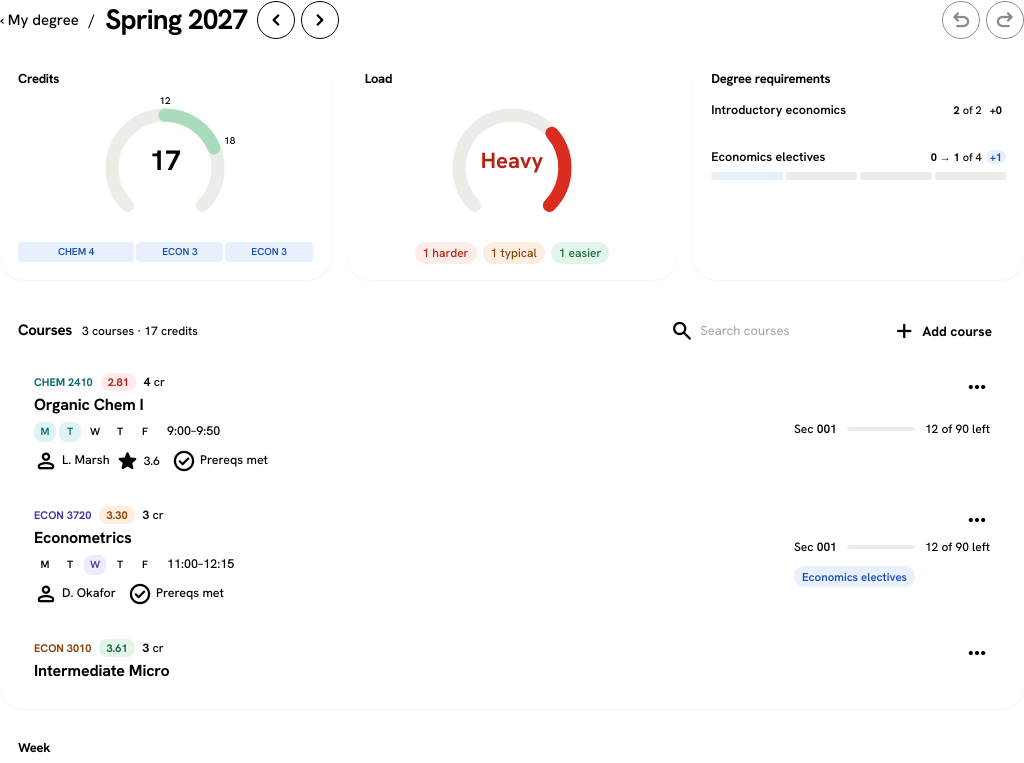
drops › a week drop where several sections fit adds the course and opens Swap section
In the search field labelled "Search courses": point(780, 331) [700,322,860,339], type "labor"
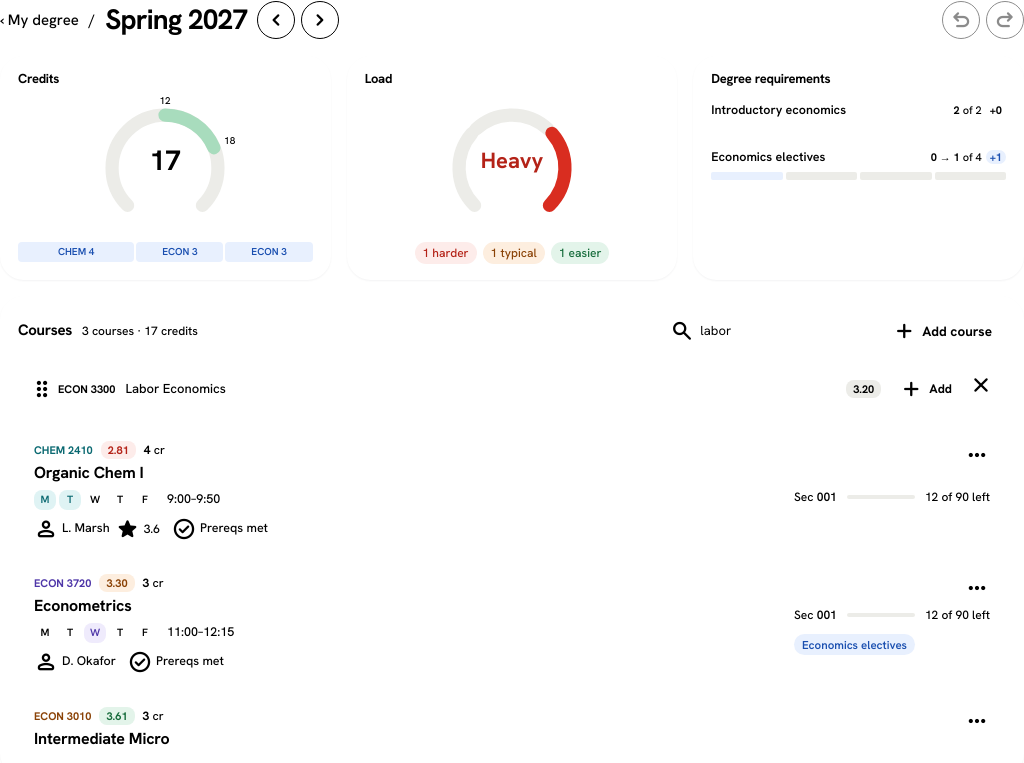
Press Space in the button named "Drag ECON 3300", box [30,377,48,401]
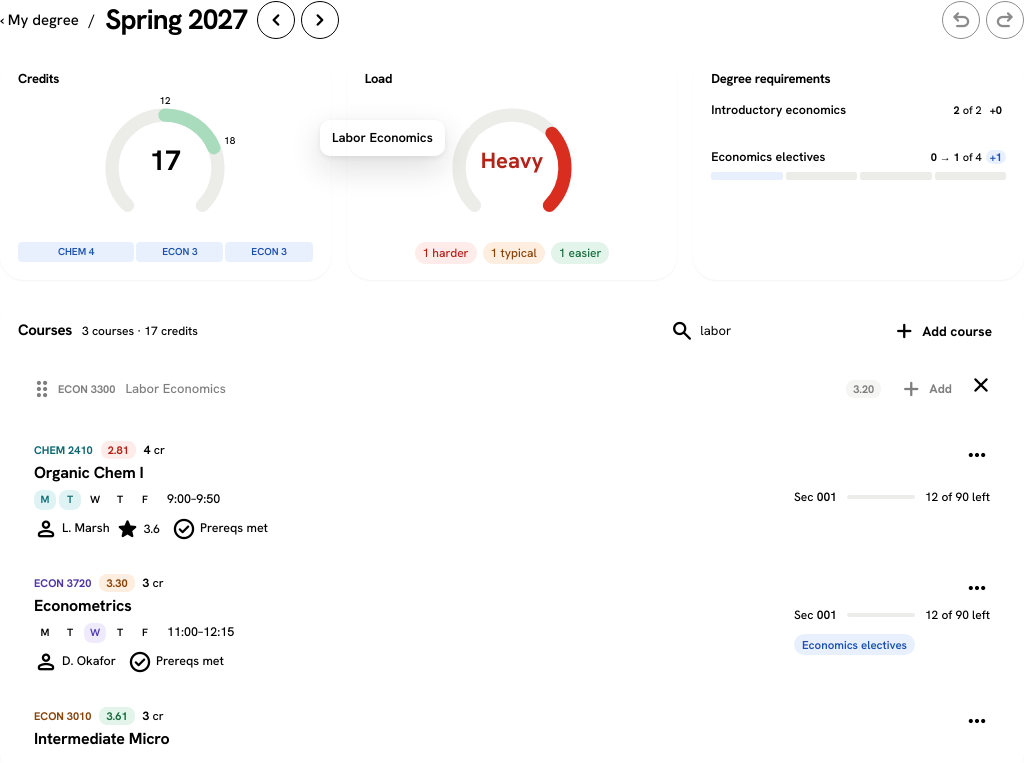
Press ArrowDown
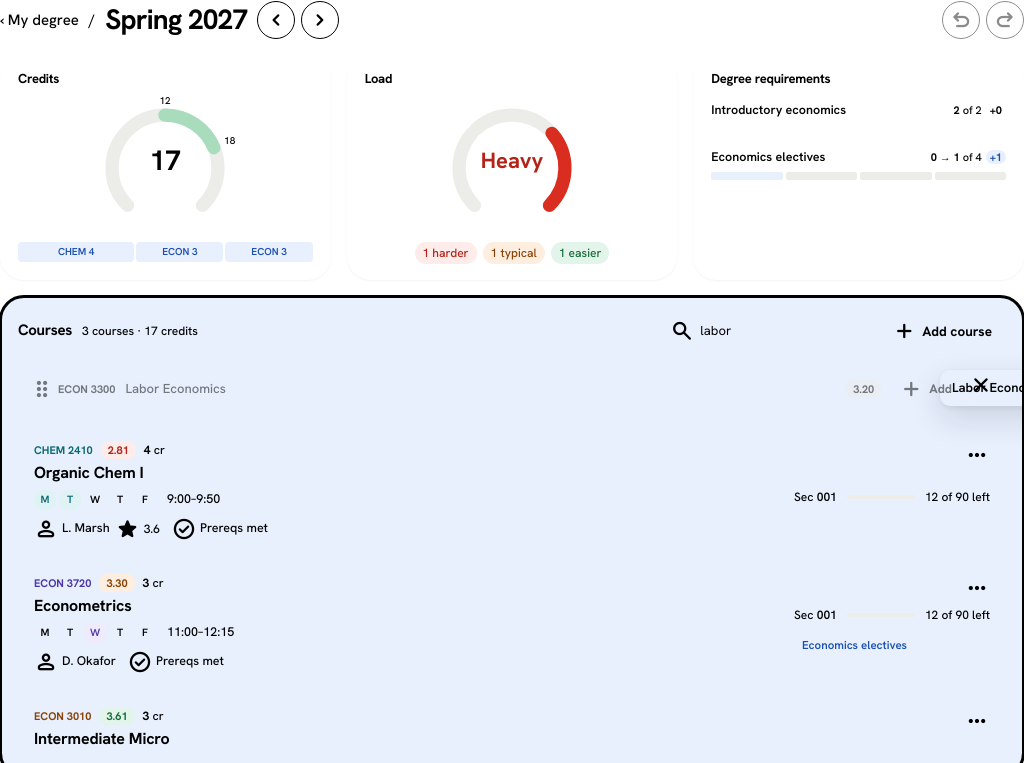
Press ArrowDown
(page scrolled)
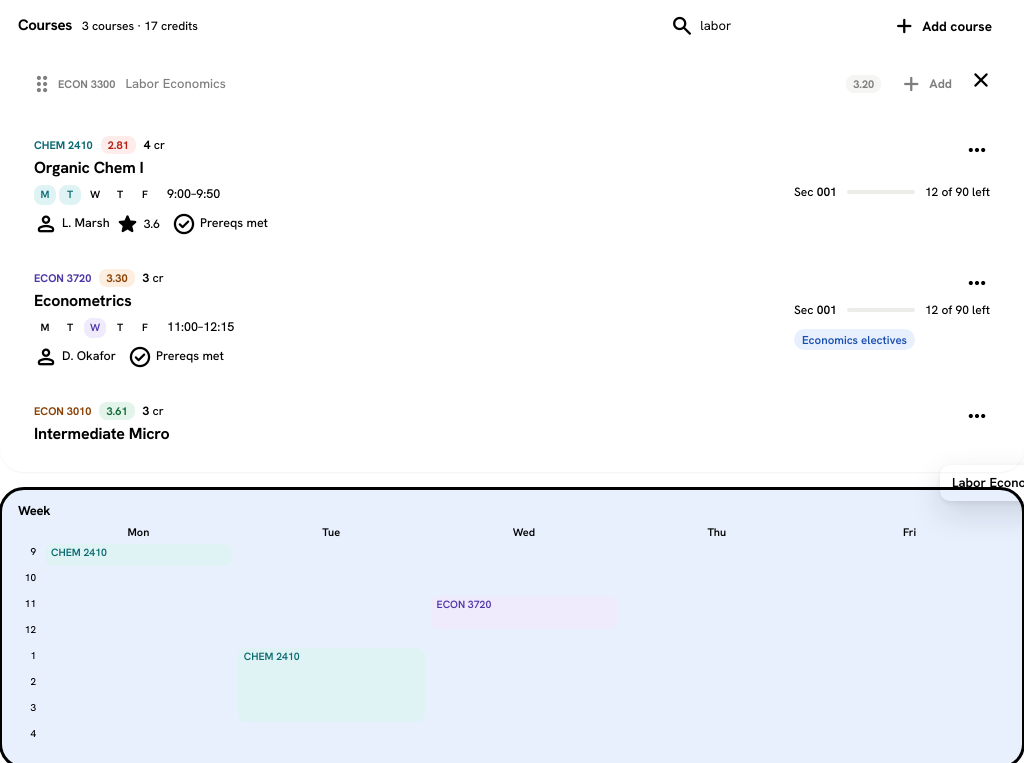
Press Space
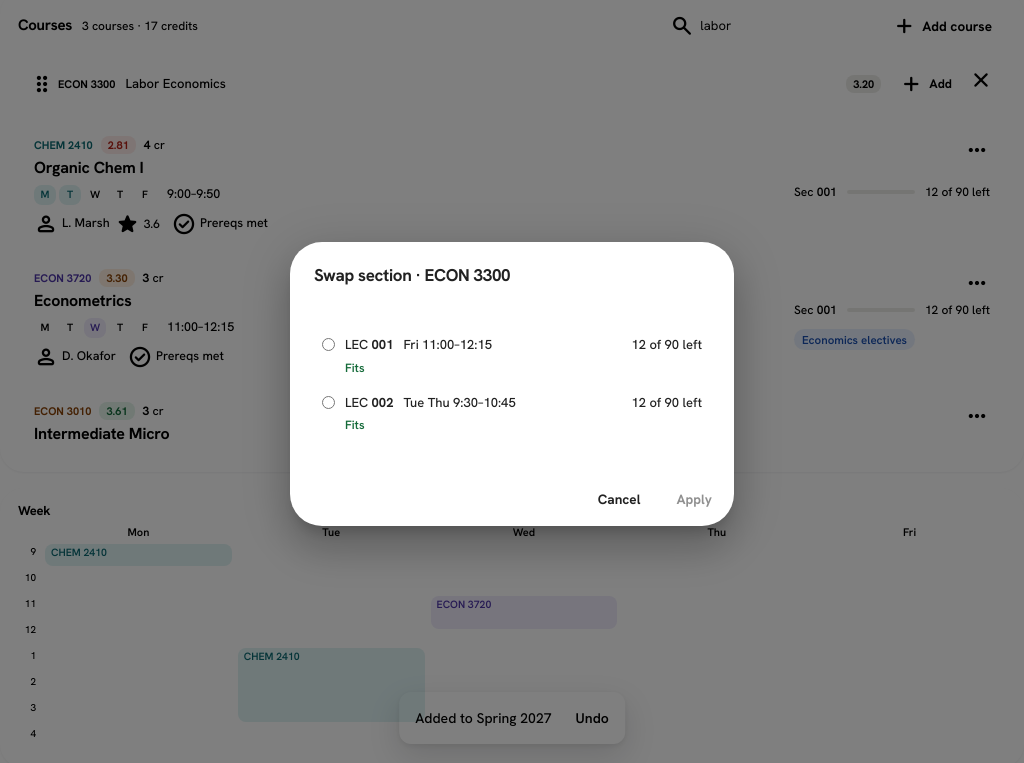
Expected: the text "Fits" is shown 2 times, [345,360,365,376]; [345,417,365,433]
